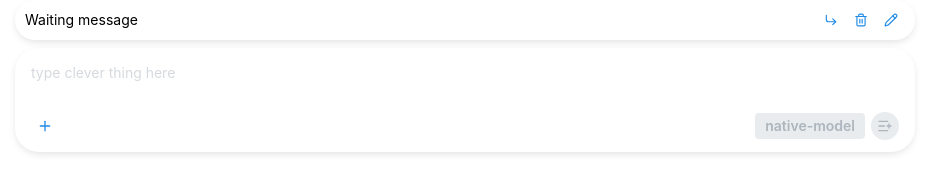
it: composer alternate submission › previews Send now while Command is held from Add to queue
The image size is (931, 172).
In the text box named "Message composer": (465, 83) [29, 62, 901, 104], type "Preview the alternate action"
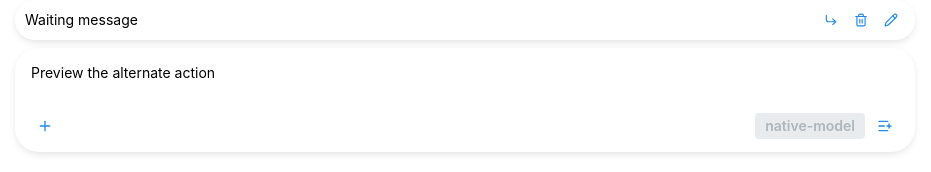
Check: the button named "Add to queue" is shown, box [869, 110, 901, 142]
Press Meta in the text box named "Message composer", box [29, 62, 901, 104]
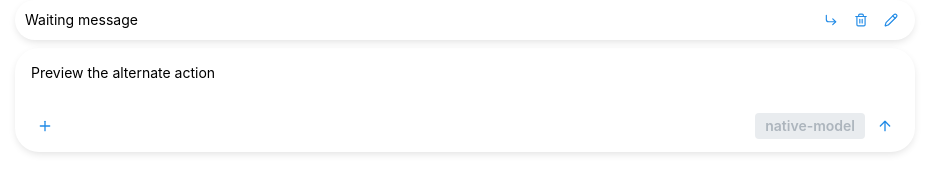
Check: the button named "Send now" is shown, box [869, 110, 901, 142]
Press Meta in the text box named "Message composer", box [29, 62, 901, 104]
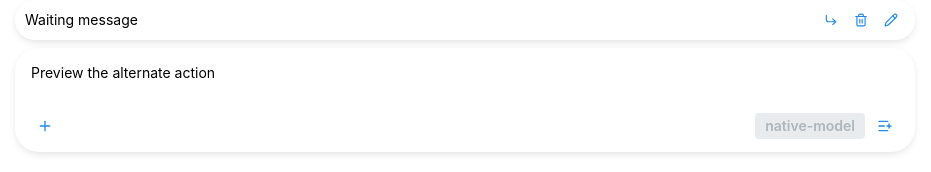
Check: the button named "Add to queue" is shown, box [869, 110, 901, 142]
